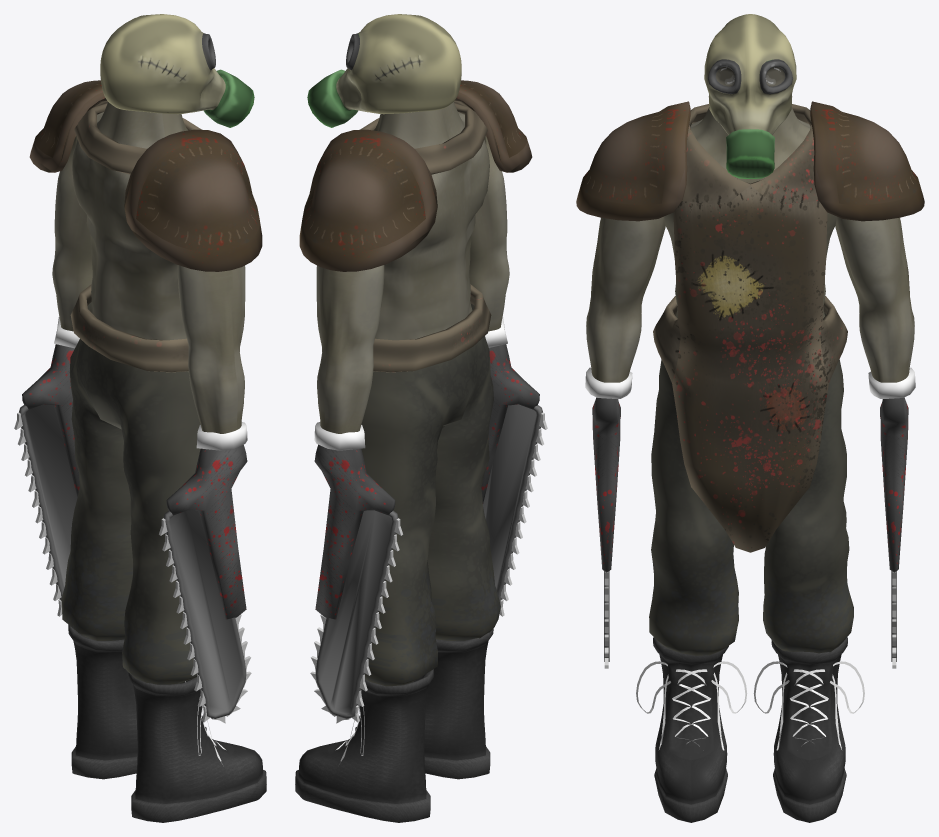
Rendered from Enemy model.glb.
3 views of the same model, side by side, from view 1: azimuth 30°, elevation 25°; view 2: azimuth 150°, elevation 25°; view 3: azimuth 270°, elevation 25° (orthographic).
Visible parts, largest first — view 1: Cube.015; view 2: Cube.015; view 3: Cube.015.
Part boxes in pixels (<box>): Cube.015: <box>14,14,266,822</box>; Cube.015: <box>295,14,547,822</box>; Cube.015: <box>576,14,924,822</box>.
Size of the model in its own units: 0.7399 by 3.38 by 1.4.
13 materials, 9 textured.
